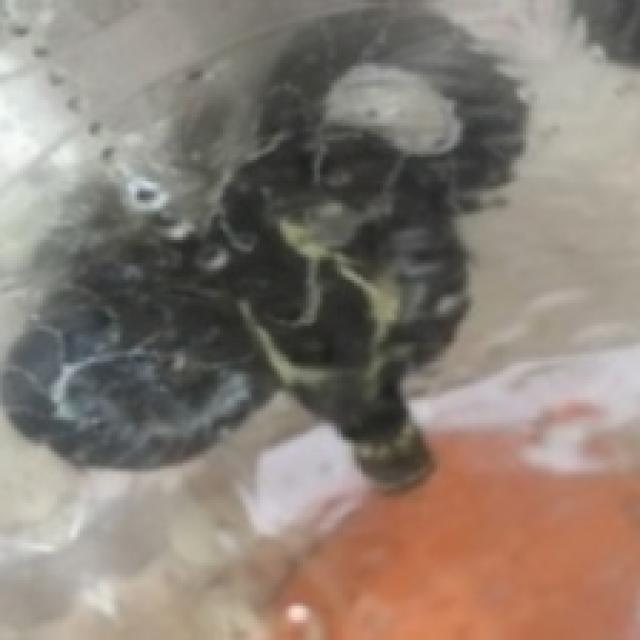king cobra: (0, 0, 523, 486)
